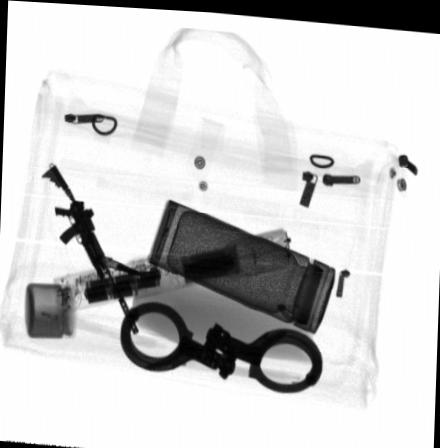Baton: (53, 223, 293, 312)
Bullet: (91, 250, 141, 275)
Gun: (39, 165, 138, 333)
HandCuffs: (118, 299, 322, 391)
